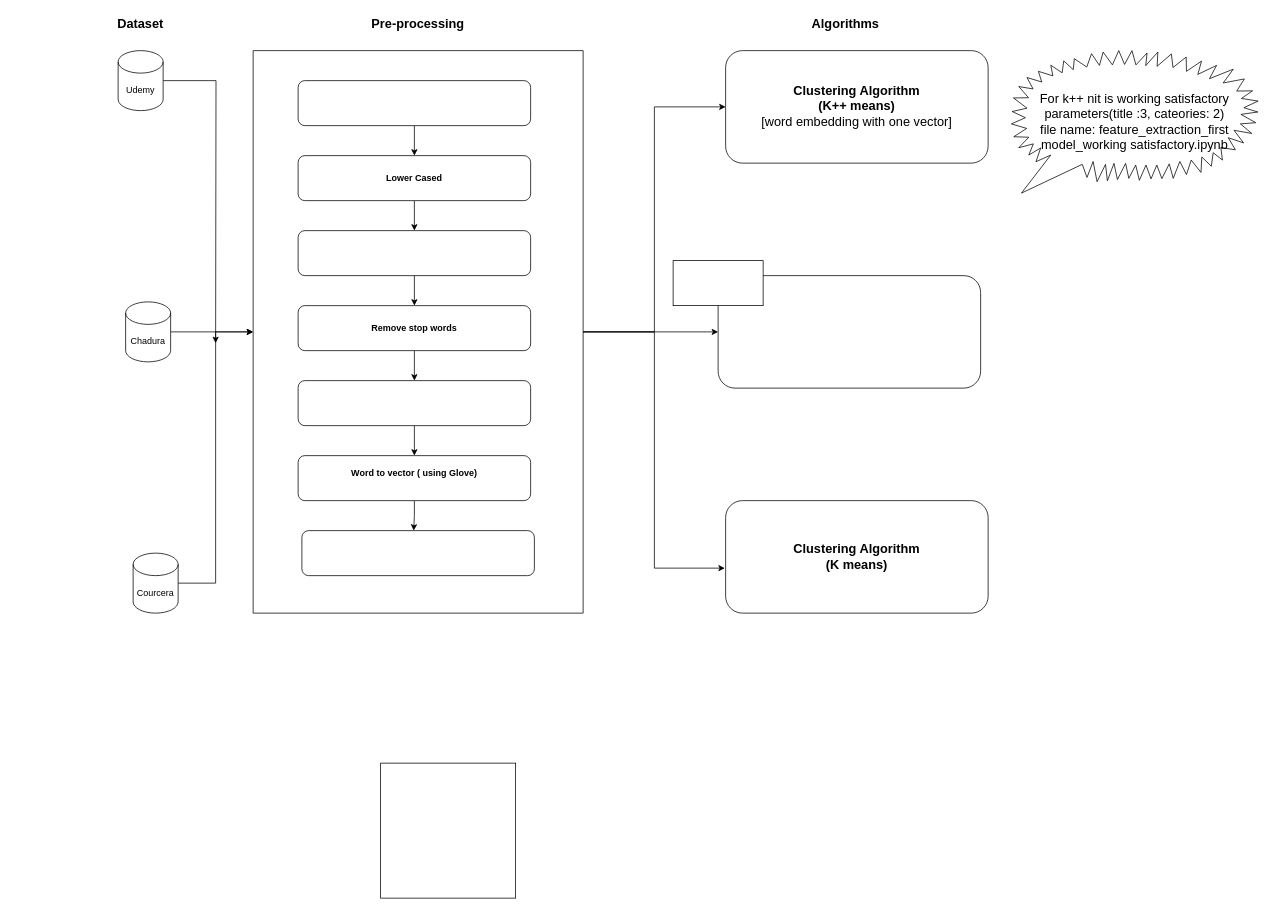
The diagram is 1271 pixels wide and 911 high, and some of its shapes have lost their labels. Here are the shapes that lost their labels. From the top down, the box of each, then its label:
(297, 80, 531, 126): Remove Punctuation
(297, 230, 531, 276): Tokenize
(717, 275, 981, 388): Clustering Algorithm (K++ means) [Word embedding with >1 ]
(297, 380, 531, 426): Removed Spaces and one word sentence
(301, 530, 534, 576): Padding
